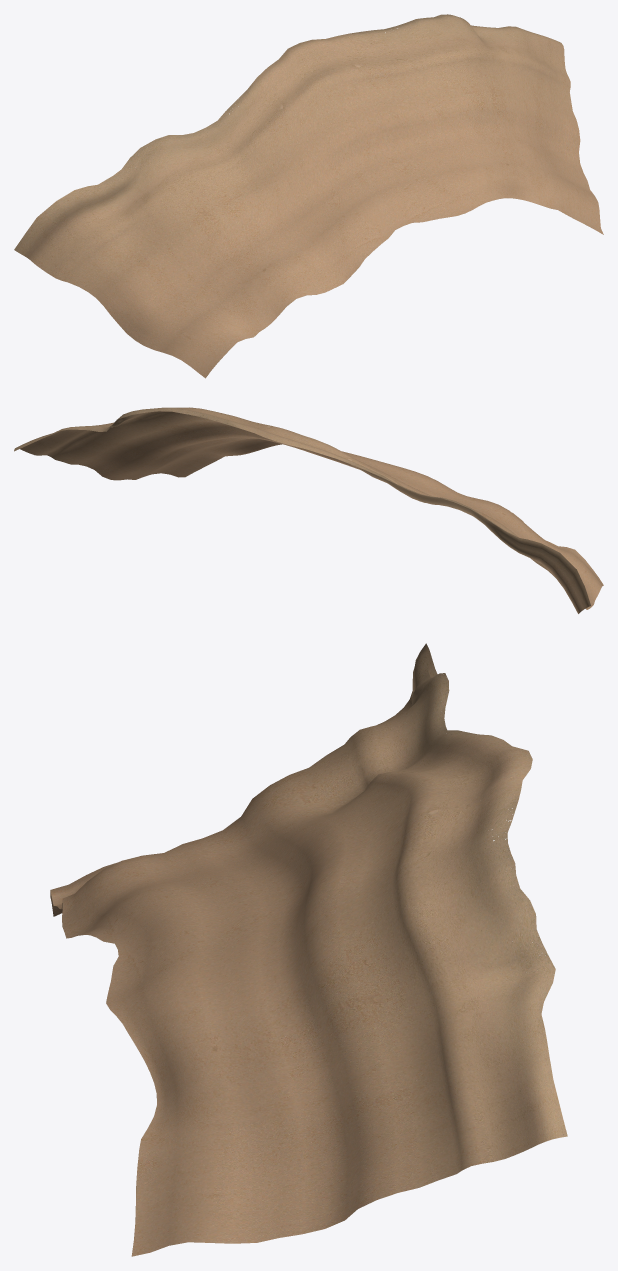
The model's file is plane_wreckage_sanddune_2.dae.
The picture shows the model from 3 angles, top to bottom: view 1: azimuth 30°, elevation 25°; view 2: azimuth 150°, elevation 25°; view 3: azimuth 270°, elevation 25°; orthographic projection. The views are drawn at different scales.
Parts seen in each view (by area): view 1: sand_plane1; view 2: sand_plane1; view 3: sand_plane1.
Boxes of the visible parts, box(x1,y1,x2,y2) form: sand_plane1: box(14, 14, 603, 378); sand_plane1: box(14, 407, 603, 613); sand_plane1: box(50, 643, 567, 1256).
Bounding box in the file's own units: 18.38 × 5.85 × 7.5.
